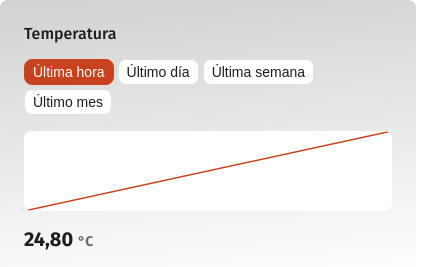
Test: ChartWidgetComponent › equivalente por teclado del tooltip (WCAG 2.1 AA 2.1.1 / 1.4.13) › Escape oculta el tooltip sin perder el foco
Focus the picture named "Temperatura" at (208, 171), box x1=24 y1=131 x2=392 y2=211
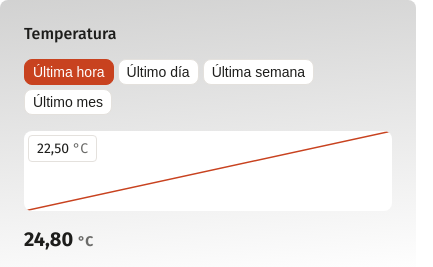
expect the element with class "chart-plot__tooltip" is shown: met, box x1=28 y1=135 x2=97 y2=162
Press Escape in the picture named "Temperatura", box x1=24 y1=131 x2=392 y2=211
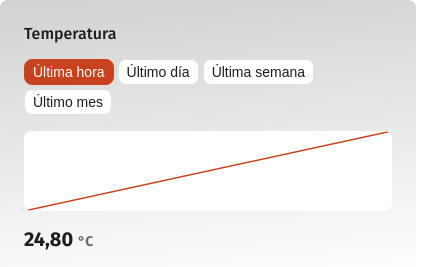
expect the element with class "chart-plot__tooltip" is gone: met
